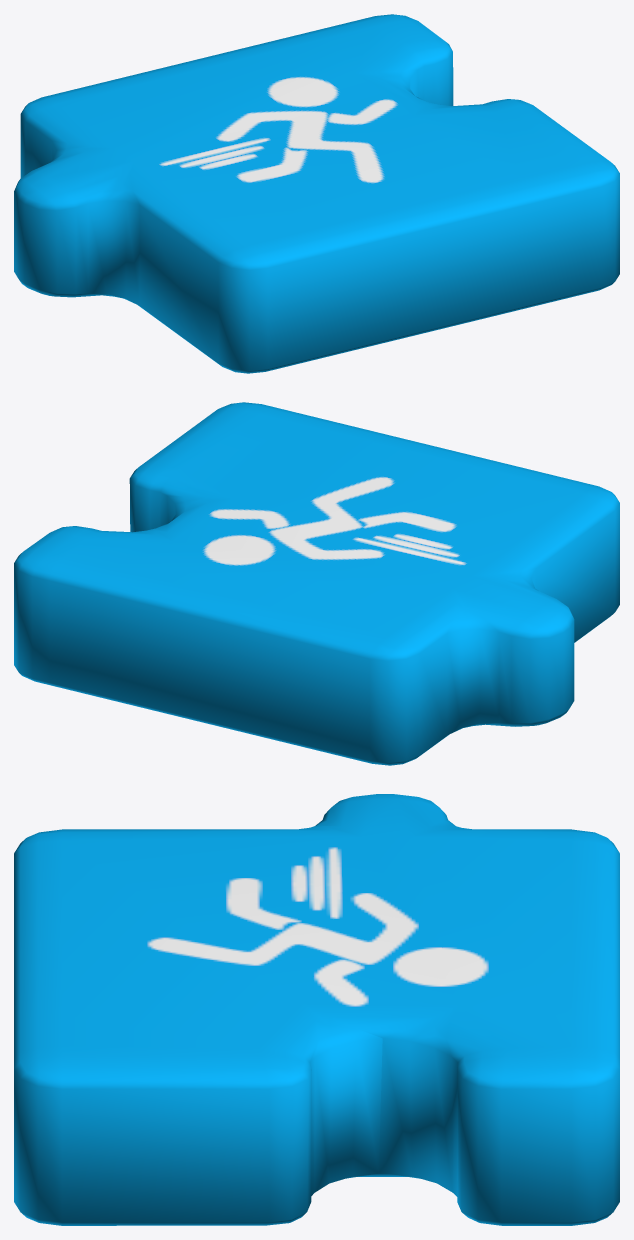
Rendered from bloqueMover.fbx.
3 views of the same model, one above another, from view 1: azimuth 30°, elevation 25°; view 2: azimuth 150°, elevation 25°; view 3: azimuth 270°, elevation 25° (orthographic). The views are drawn at different scales.
Parts seen in each view (by area): view 1: BloqueMover; view 2: BloqueMover; view 3: BloqueMover.
Part boxes in pixels (left/top/right/bottom): BloqueMover: left=14, top=14, right=619, bottom=373; BloqueMover: left=14, top=402, right=619, bottom=765; BloqueMover: left=14, top=794, right=619, bottom=1225.
Bounding box in the file's own units: 238 × 59.47 × 200.
